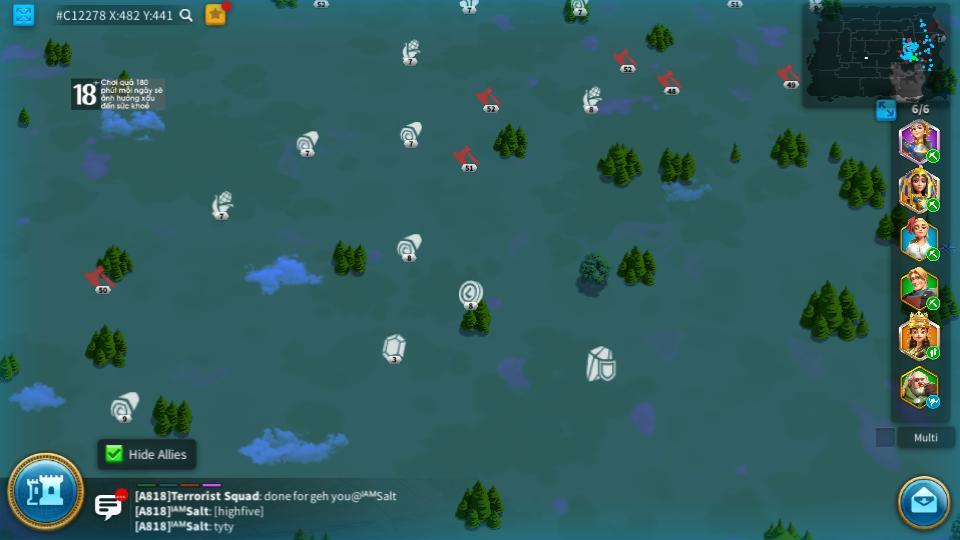gem-z-out: (383, 334, 406, 357)
march_farming: (923, 197, 940, 212), (925, 149, 941, 162), (925, 248, 941, 261), (925, 297, 941, 308)
march_idle: (925, 396, 942, 408)
march_marching: (925, 345, 942, 359)
